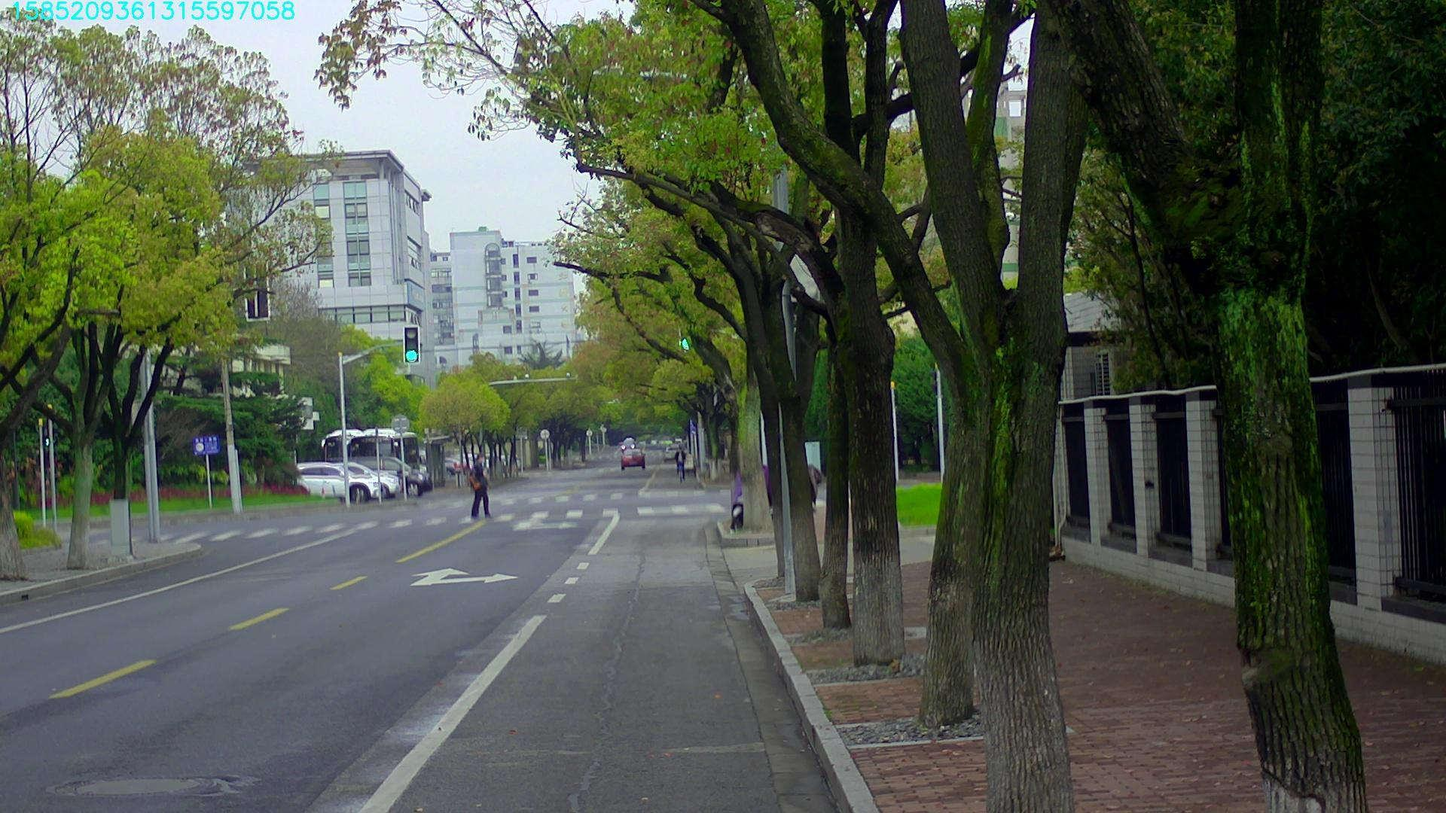green: (404, 325, 419, 362), (679, 338, 694, 351)
